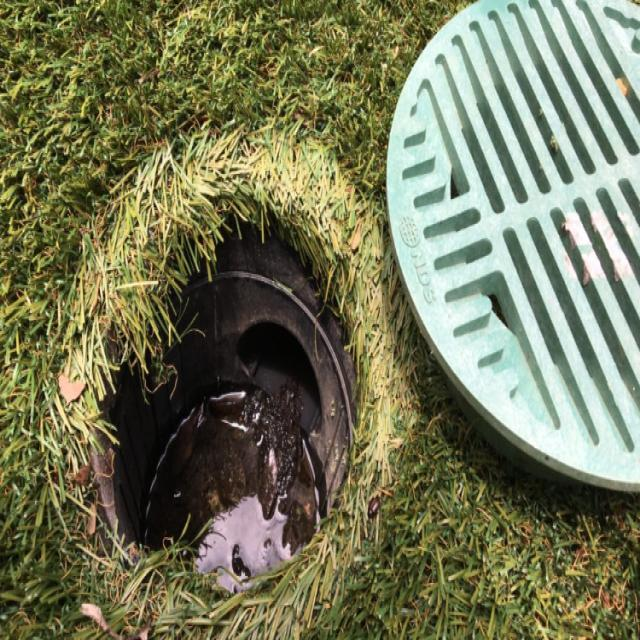Breeding Place: (91, 197, 361, 610)
